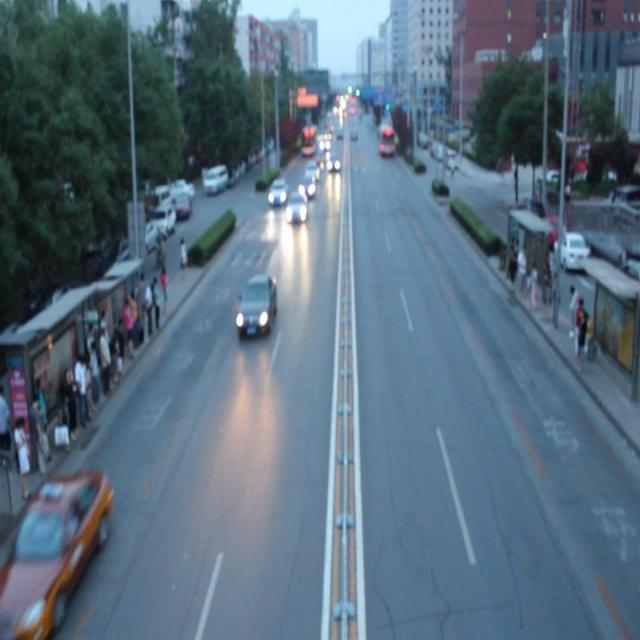car: (10, 475, 113, 619), (236, 272, 276, 338), (286, 192, 306, 224), (268, 180, 286, 206), (298, 177, 315, 200), (302, 161, 318, 182), (325, 154, 340, 172)
